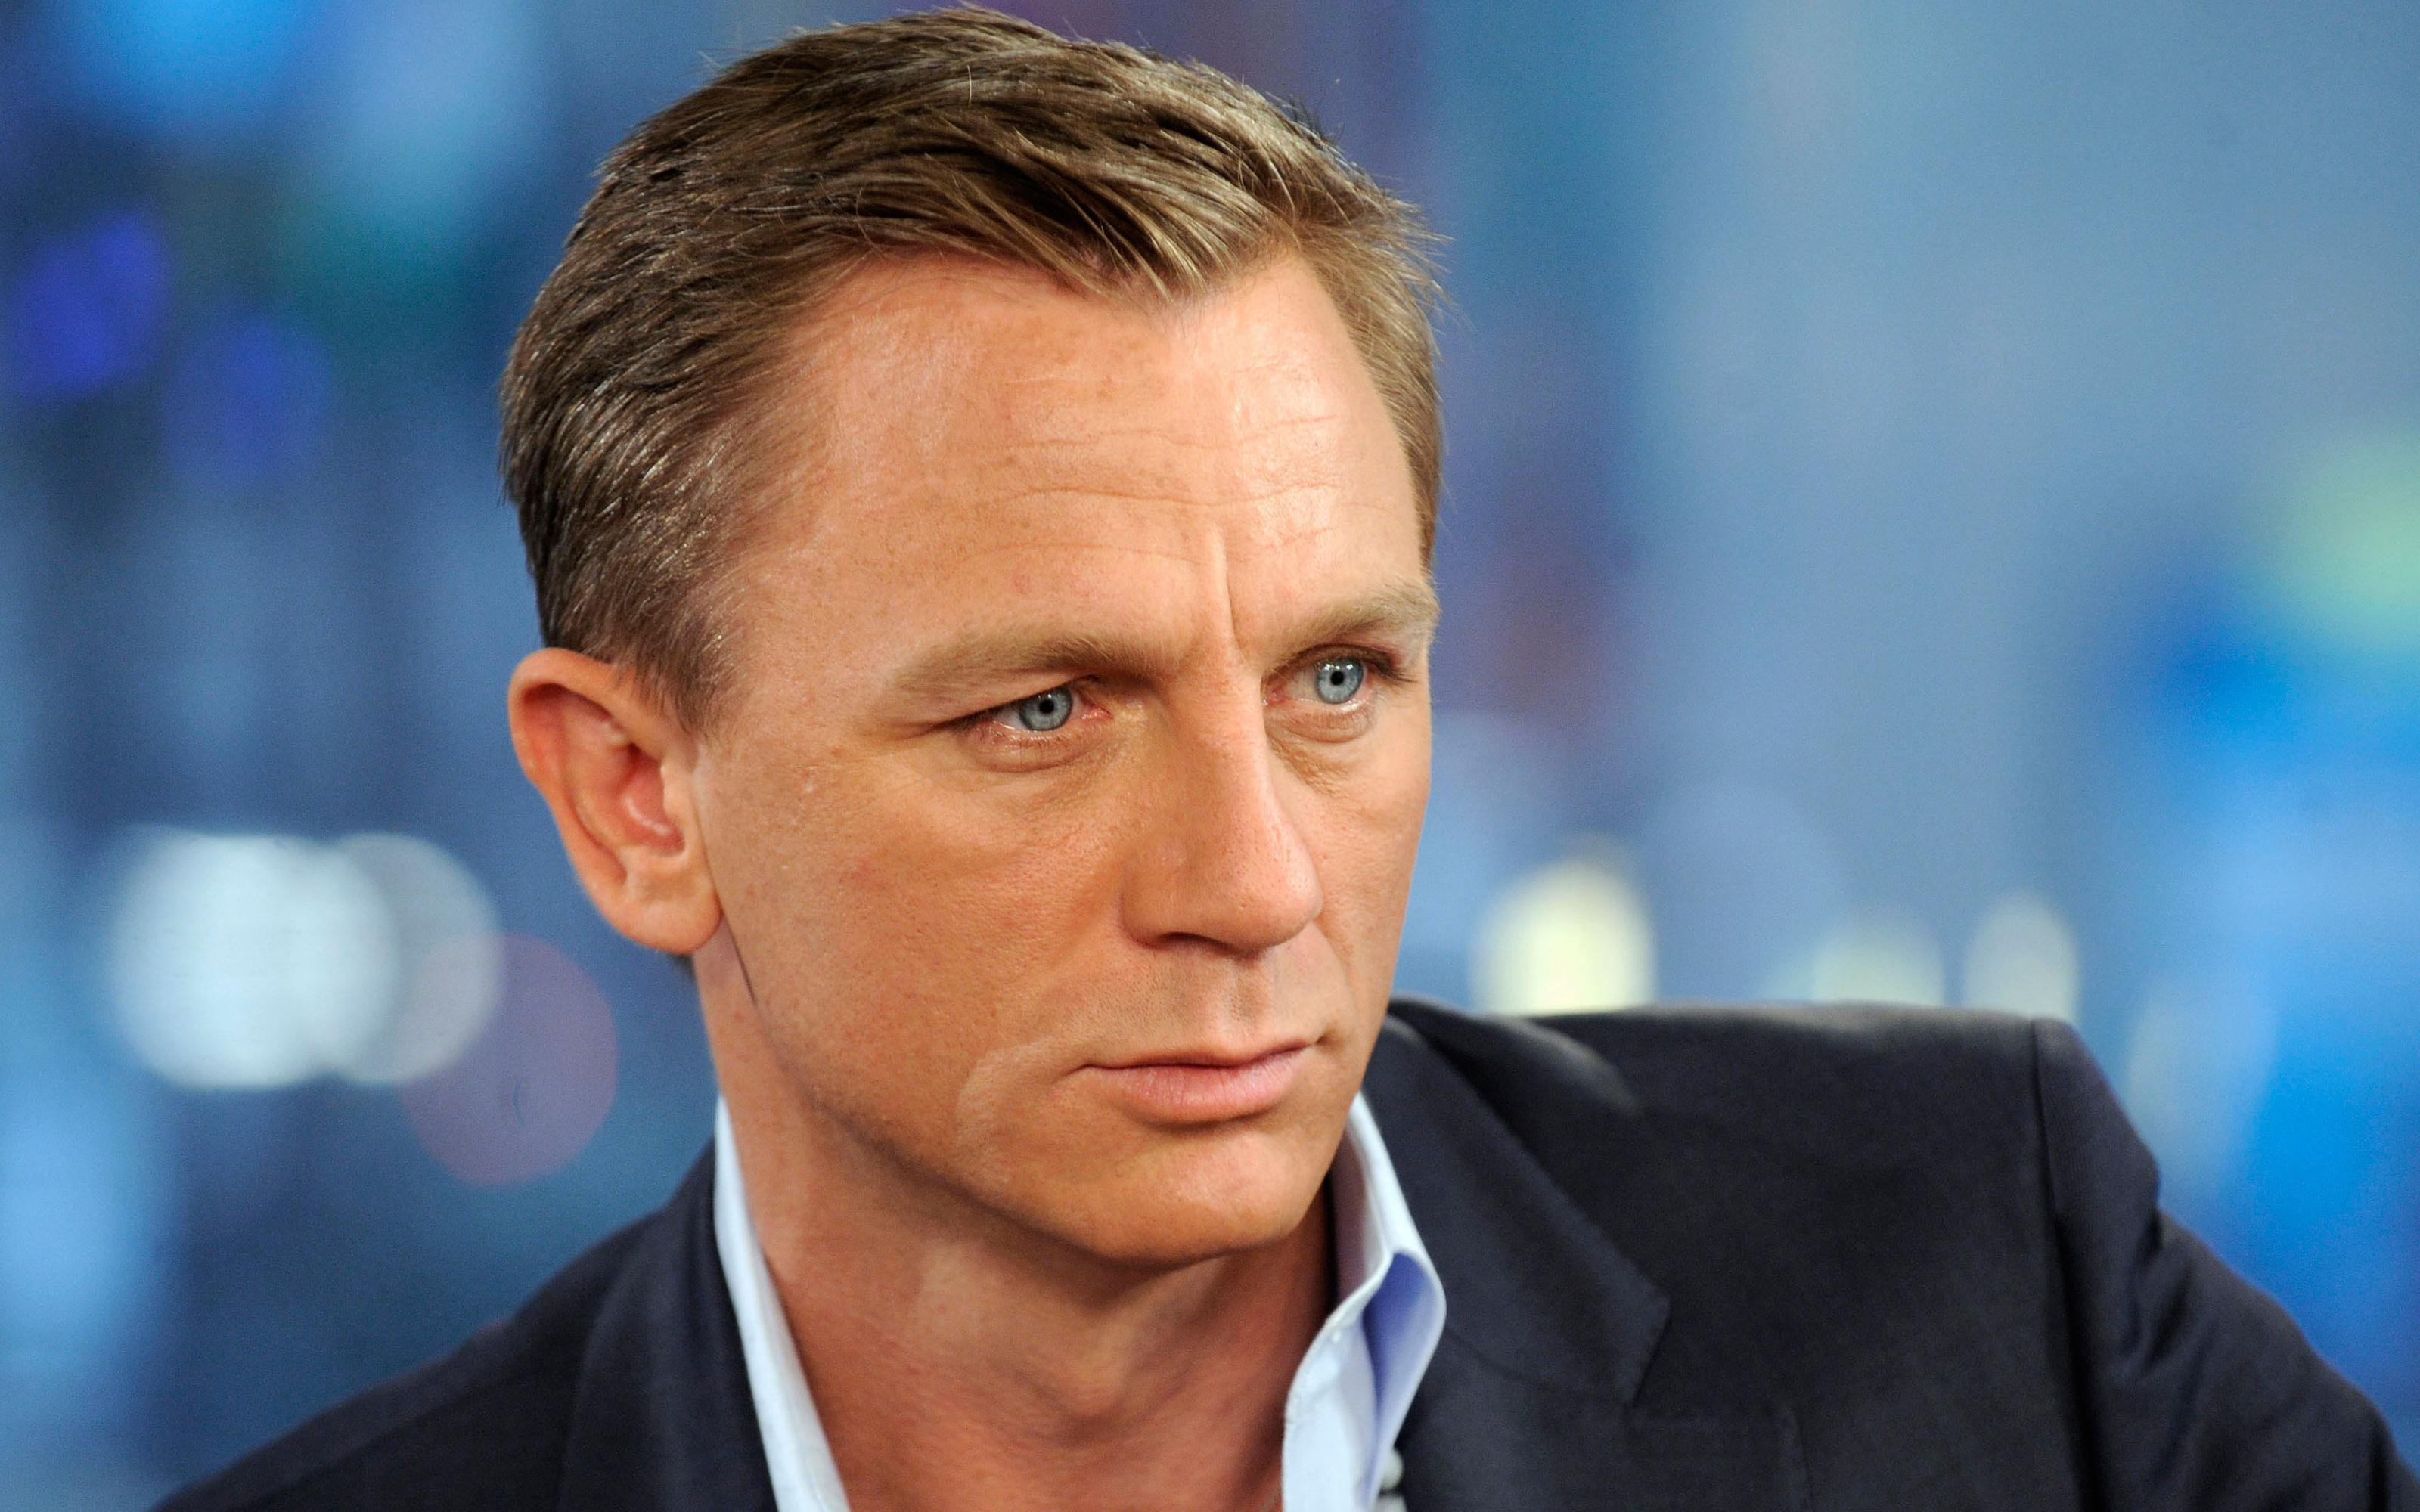noMask: (402, 17, 1482, 1276)
